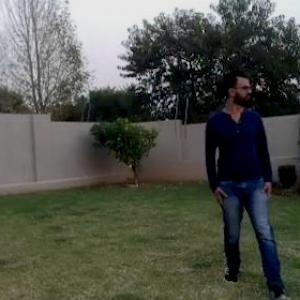follow: (202, 49, 278, 280)
